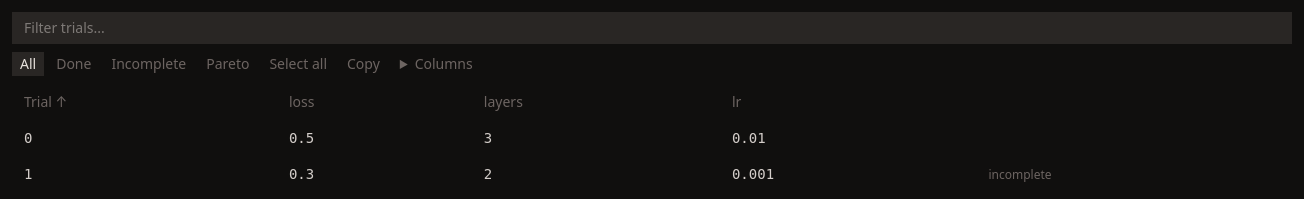
Test: TrialTable › shows sort direction indicator in the active column header
Expected: the text "loss" does not show "↑"
Expected: the text "loss" does not show "↓"
What coordinates should you click on to do the following:
click the column heading "loss"
I would click on:
 (302, 102)
Its box is x1=277 y1=84 x2=472 y2=120.
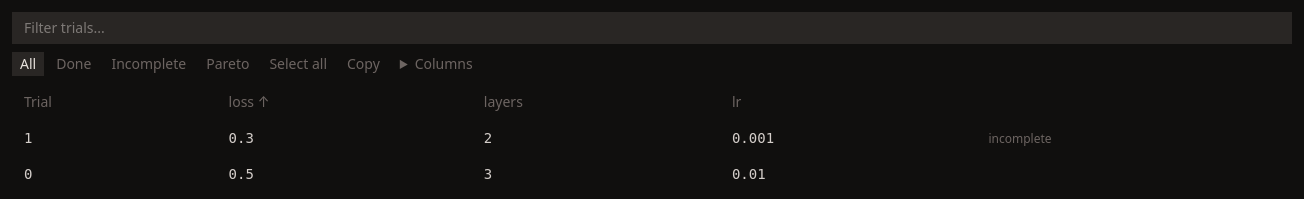
Expected: the column heading "loss" shows "↑", x1=254 y1=92 x2=269 y2=111
What coordinates should you click on to do the following:
click the column heading "loss"
I would click on:
 (241, 102)
Its box is x1=217 y1=84 x2=472 y2=120.
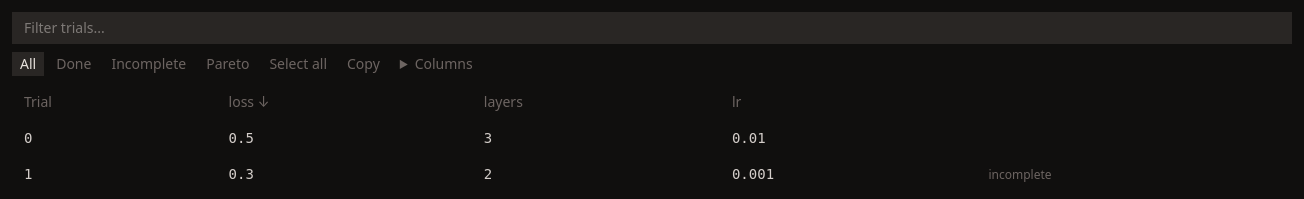
Expected: the column heading "loss" shows "↓", x1=254 y1=92 x2=269 y2=111
